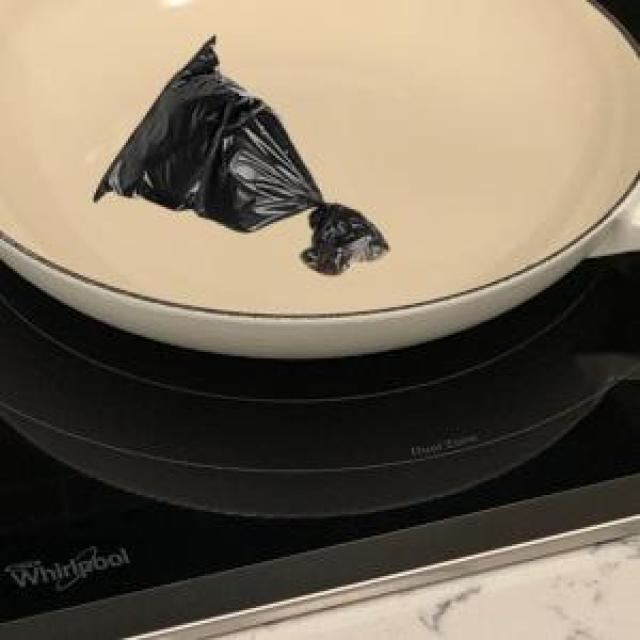garbage_bag: (90, 30, 391, 276)
